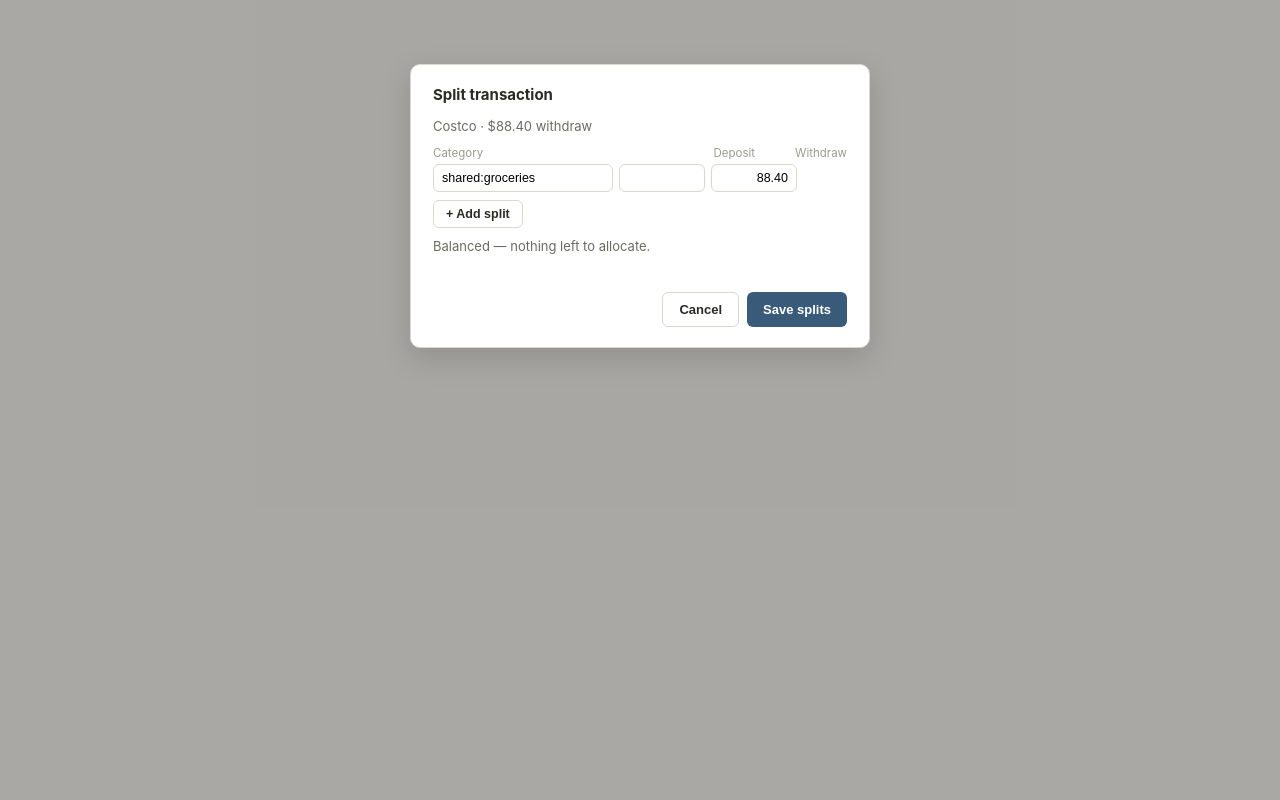
Scenario: SplitModal › pre-fills a new split with the remaining amount
Replace the text in the field named "Withdraw" with "60". click: [754, 178]
box: [711, 164, 797, 192]
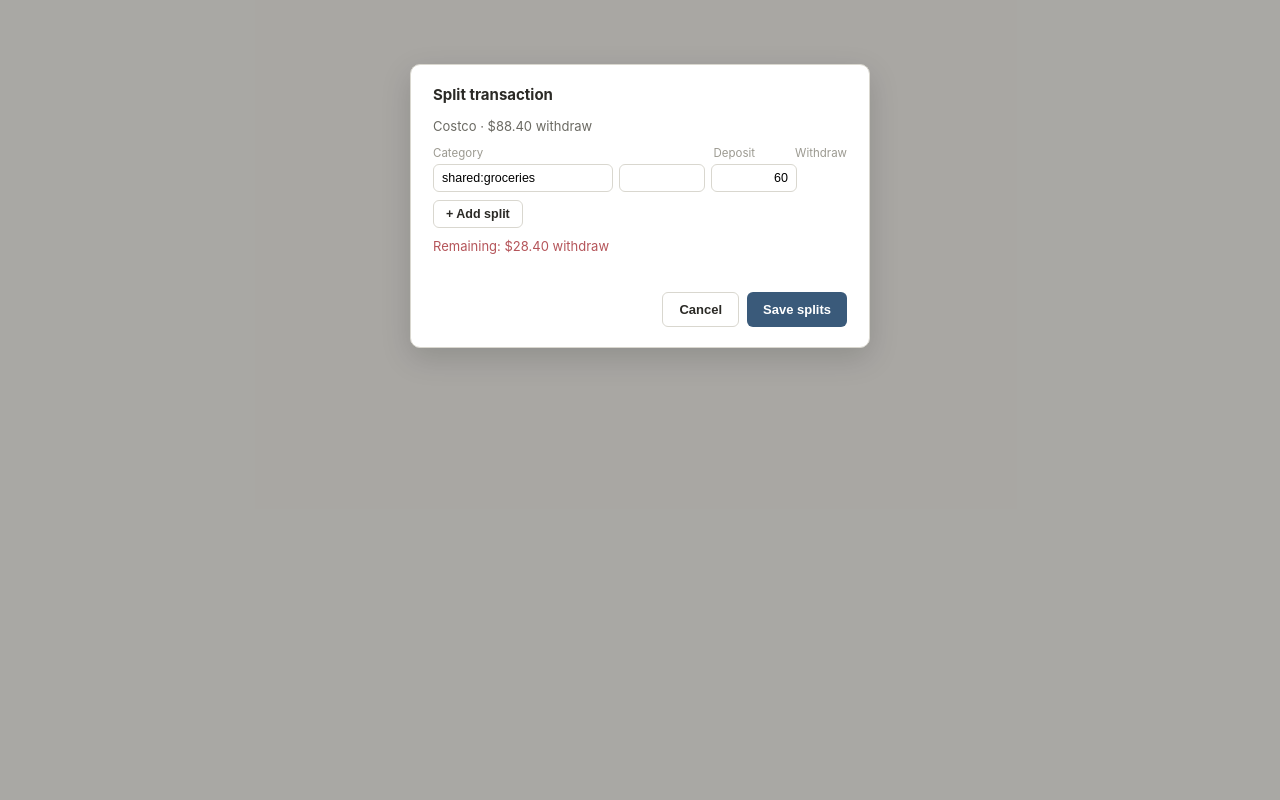
Click the button "+ Add split". click: [478, 214]
box: [433, 200, 523, 228]
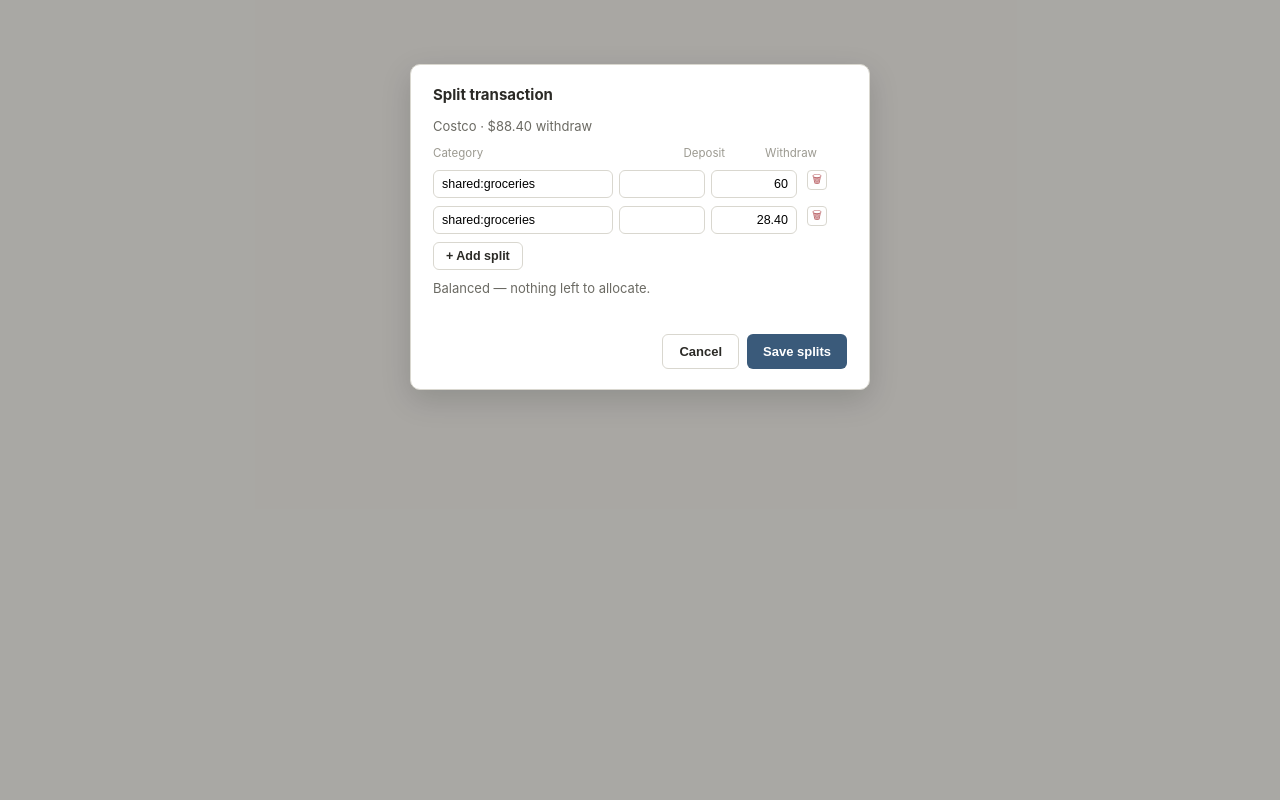
Check: the 2nd field named "Deposit" is empty, box [619, 206, 705, 234]
Check: the 2nd field named "Withdraw" holds "28.40", box [711, 206, 797, 234]
Check: the text with test id "split-remaining" shows "Balanced", box [433, 280, 650, 296]
